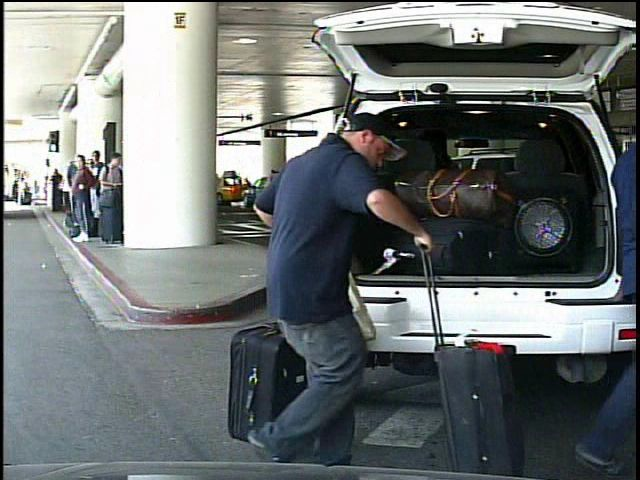person: (250, 101, 430, 475), (18, 176, 29, 207)
